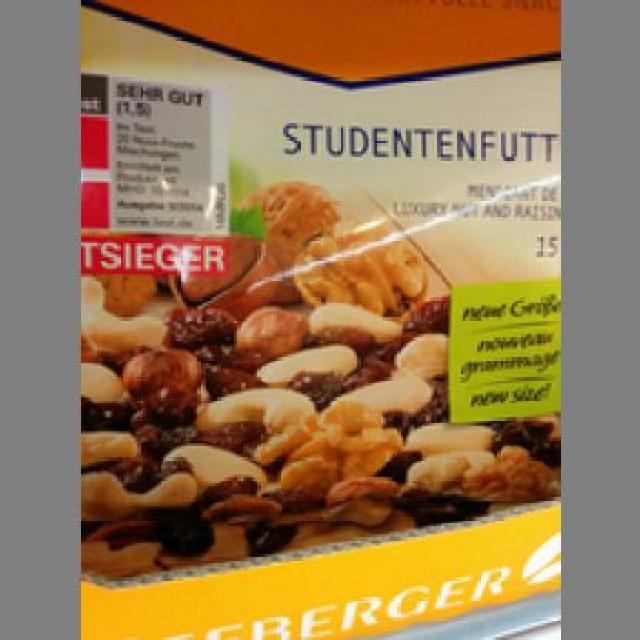Nuts: (77, 0, 554, 583)
